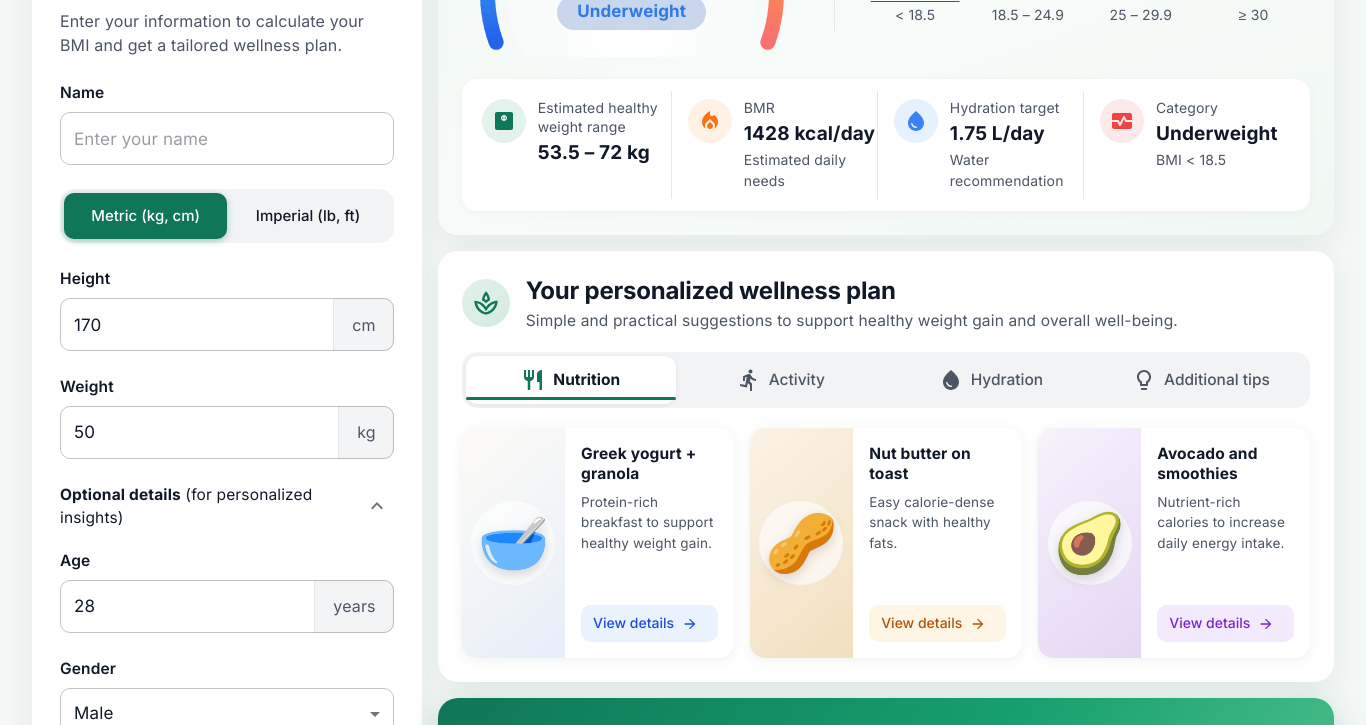
BmiApp › switches wellness plan tabs and opens details
The width and height of the screenshot is (1366, 725).
(page scrolled)
Click the tab "Activity" at point(781, 380), box [676,356,886,404]
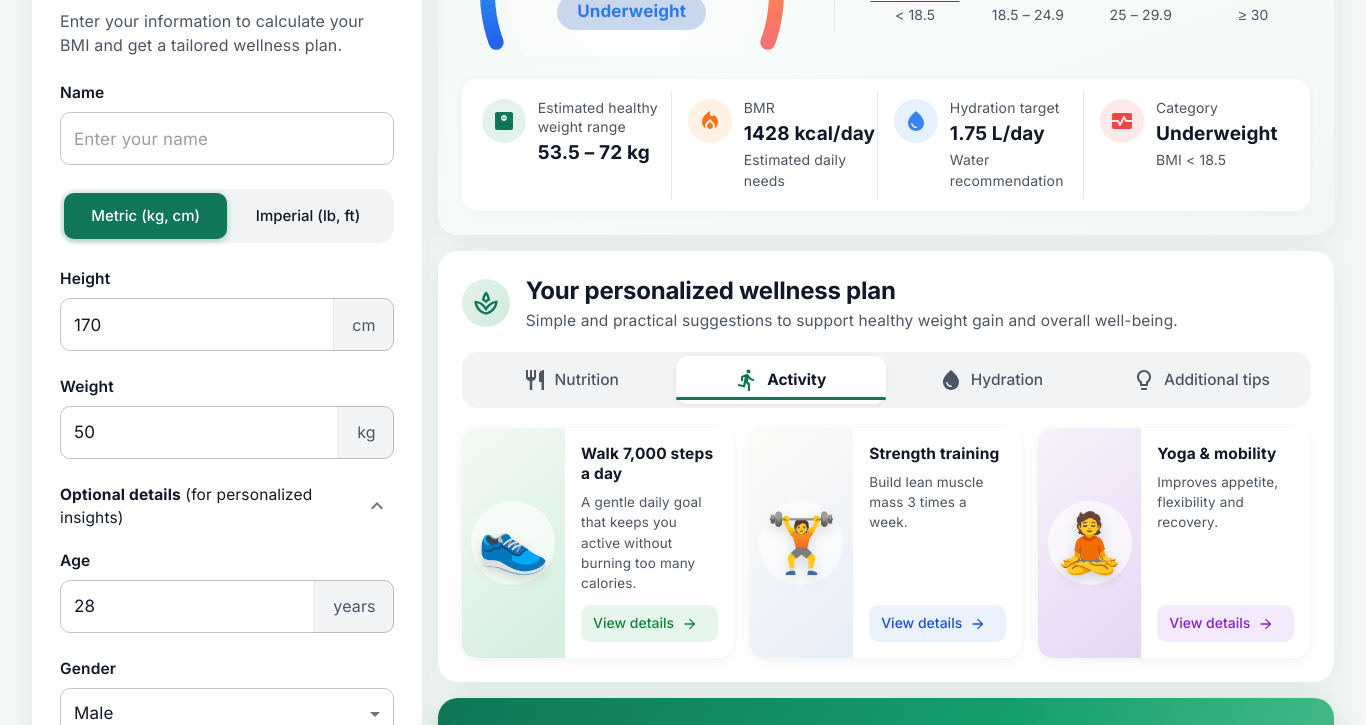
Expected: the text "Strength training" is shown, [869,444,1006,464]
Click the button with aria-label "View details: Strength training" at point(938, 624), box [869,605,1006,642]
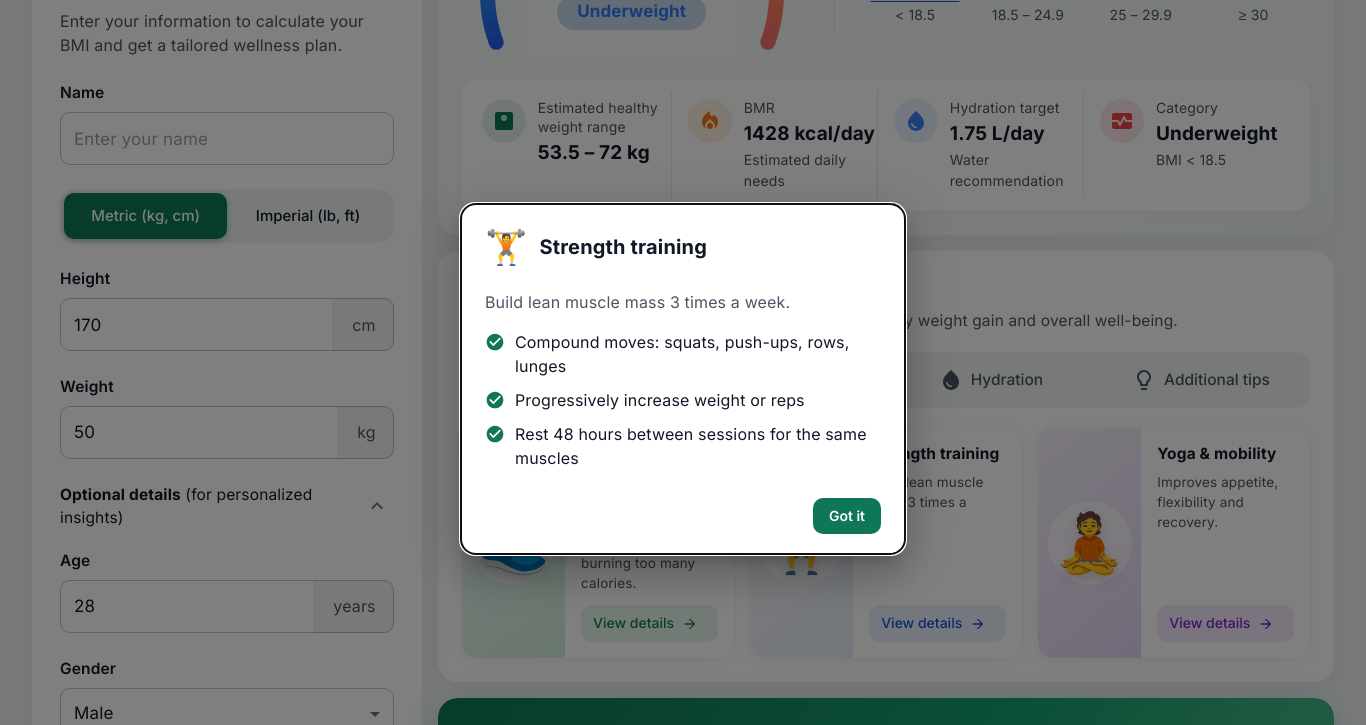
Expected: the text "Compound moves: squats, push-ups, rows, lunges" is shown, [515,330,881,378]
